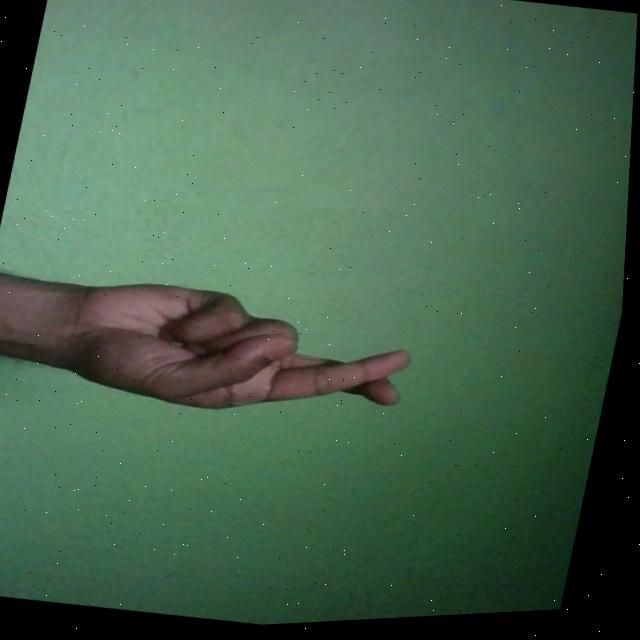Good Luck: (45, 260, 424, 447)
